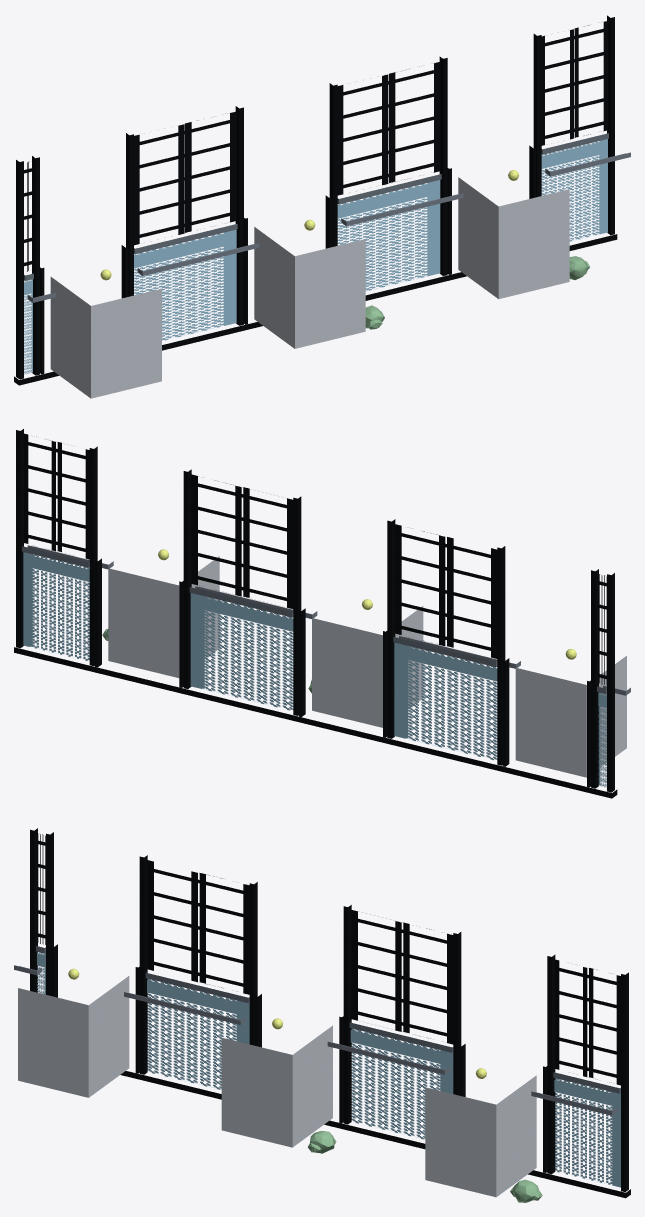
Rendered from tt_axe_spectator.glb.
3 views of the same model, one above another, from view 1: azimuth 30°, elevation 25°; view 2: azimuth 150°, elevation 25°; view 3: azimuth 330°, elevation 25° (orthographic).
Parts seen in each view (by area): view 1: Gate_Leaf, Screen_Pane_Scissor, Screen_Net_Scissor, Screen_Posts, Gate_Jamb, Lean_Rail, Screen_Sill, Screen_Rail, Kick_Moss; view 2: Gate_Leaf, Screen_Pane_Scissor, Screen_Posts, Screen_Net_Scissor, Gate_Jamb, Screen_Sill, Screen_Rail, Lean_Rail; view 3: Gate_Leaf, Screen_Pane_Scissor, Screen_Net_Scissor, Screen_Posts, Gate_Jamb, Lean_Rail, Screen_Sill, Screen_Rail, Kick_Moss.
Boxes of the visible parts, left/top/right/bottom form: Gate_Leaf: left=50, top=177, right=569, bottom=398; Screen_Pane_Scissor: left=24, top=139, right=607, bottom=374; Screen_Net_Scissor: left=24, top=21, right=607, bottom=271; Screen_Posts: left=16, top=15, right=614, bottom=379; Gate_Jamb: left=40, top=145, right=535, bottom=374; Lean_Rail: left=27, top=152, right=630, bottom=302; Screen_Sill: left=14, top=234, right=617, bottom=385; Screen_Rail: left=24, top=133, right=608, bottom=280; Kick_Moss: left=365, top=256, right=589, bottom=329; Gate_Leaf: left=108, top=556, right=626, bottom=777; Screen_Pane_Scissor: left=23, top=552, right=606, bottom=787; Screen_Posts: left=16, top=429, right=614, bottom=792; Screen_Net_Scissor: left=23, top=433, right=606, bottom=685; Gate_Jamb: left=95, top=558, right=590, bottom=787; Screen_Sill: left=14, top=647, right=617, bottom=798; Screen_Rail: left=22, top=546, right=606, bottom=693; Lean_Rail: left=27, top=545, right=630, bottom=695; Gate_Leaf: left=18, top=976, right=536, bottom=1197; Screen_Pane_Scissor: left=37, top=952, right=620, bottom=1187; Screen_Net_Scissor: left=37, top=833, right=620, bottom=1085; Screen_Posts: left=30, top=828, right=628, bottom=1191; Gate_Jamb: left=51, top=944, right=547, bottom=1172; Lean_Rail: left=14, top=965, right=617, bottom=1115; Screen_Sill: left=120, top=1071, right=630, bottom=1198; Screen_Rail: left=36, top=946, right=620, bottom=1093; Kick_Moss: left=308, top=1131, right=542, bottom=1202.
Size of what is drawn, in the model's own units: 6.75 by 2.4 by 0.9.
Materials: 8 (6 with a texture image).
